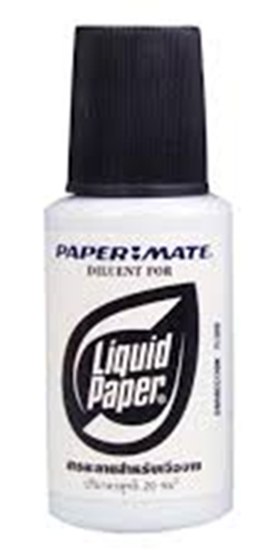Correction_fluid: (37, 18, 238, 539)
